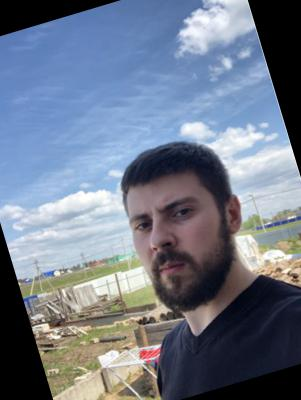without_mask: (122, 179, 242, 322)
